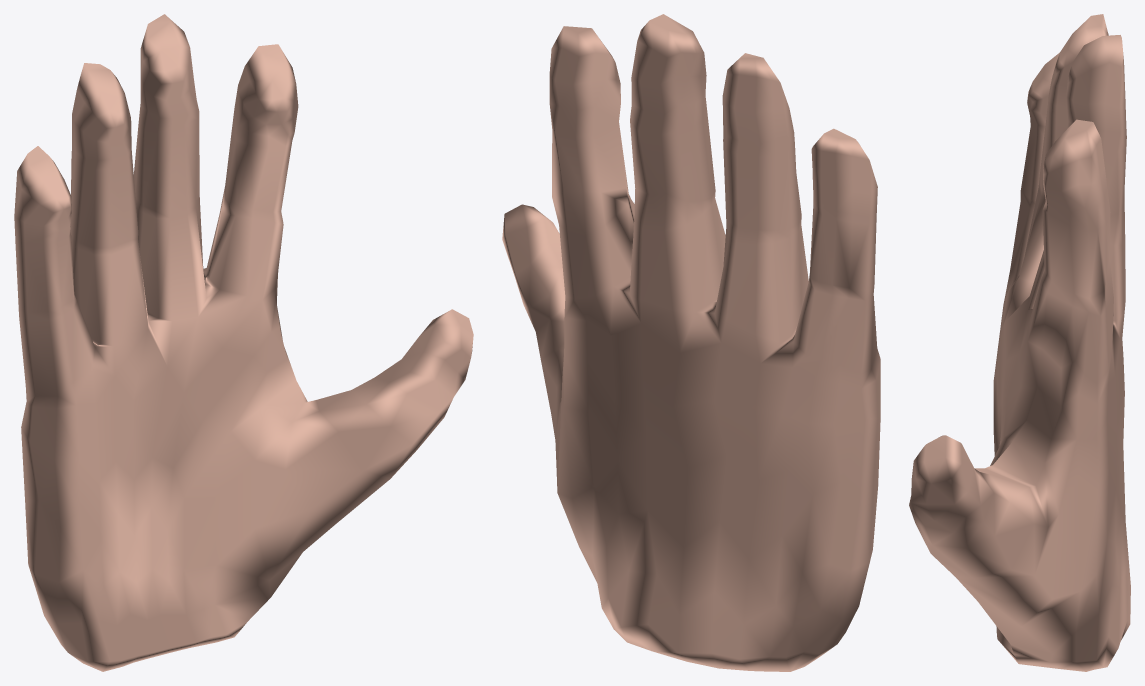
File: MAO_5.obj
3 views of the same model, side by side, from view 1: azimuth 30°, elevation 25°; view 2: azimuth 150°, elevation 25°; view 3: azimuth 270°, elevation 25° (orthographic). The views are drawn at different scales.
Visible parts, largest first — view 1: mao_dir:mao_dir; view 2: mao_dir:mao_dir; view 3: mao_dir:mao_dir.
Part boxes in pixels (x1,y1,x2,y2): mao_dir:mao_dir: (14,14,473,671); mao_dir:mao_dir: (502,14,880,671); mao_dir:mao_dir: (909,14,1130,671).
Size of the model in its own units: 170 by 243 by 79.1.
